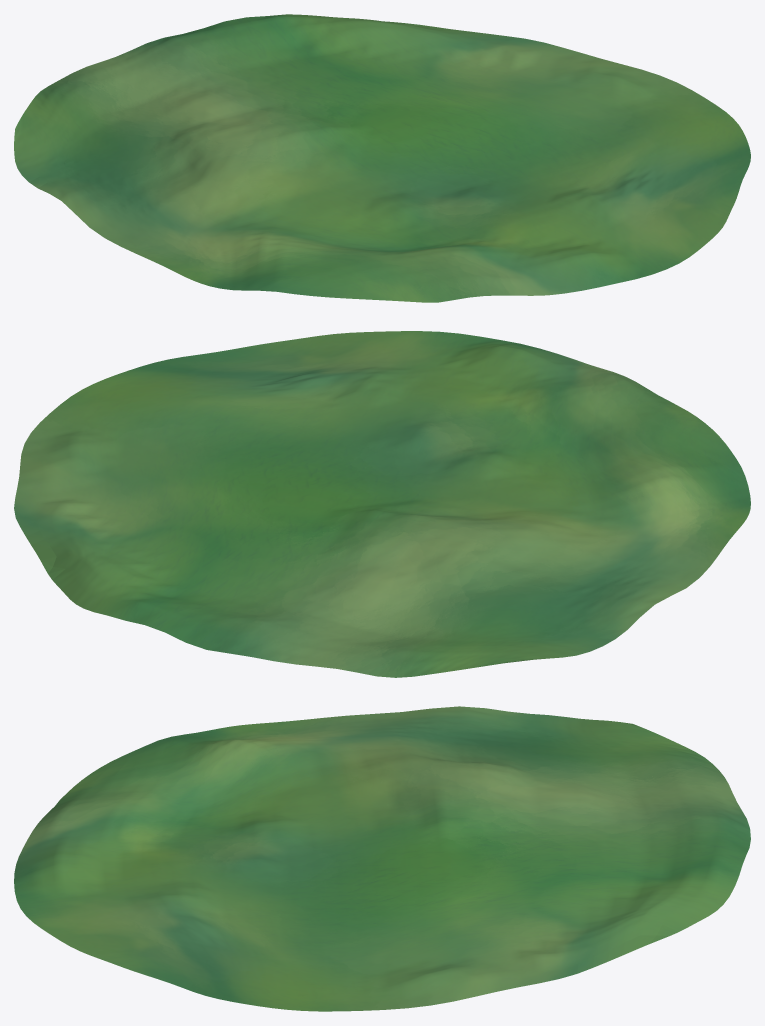
The model's file is hub.glb.
3 views of the same model, one above another, from view 1: azimuth 30°, elevation 25°; view 2: azimuth 150°, elevation 25°; view 3: azimuth 270°, elevation 25° (orthographic). The views are drawn at different scales.
Visible parts, largest first — view 1: ground; view 2: ground; view 3: ground.
Part boxes in pixels (<box>): ground: <box>14,14,750,302</box>; ground: <box>14,331,750,677</box>; ground: <box>14,706,750,1011</box>.
Size of what is drawn, in the model's own units: 162 by 6.96 by 169.
Materials: 1 (1 with a texture image).
